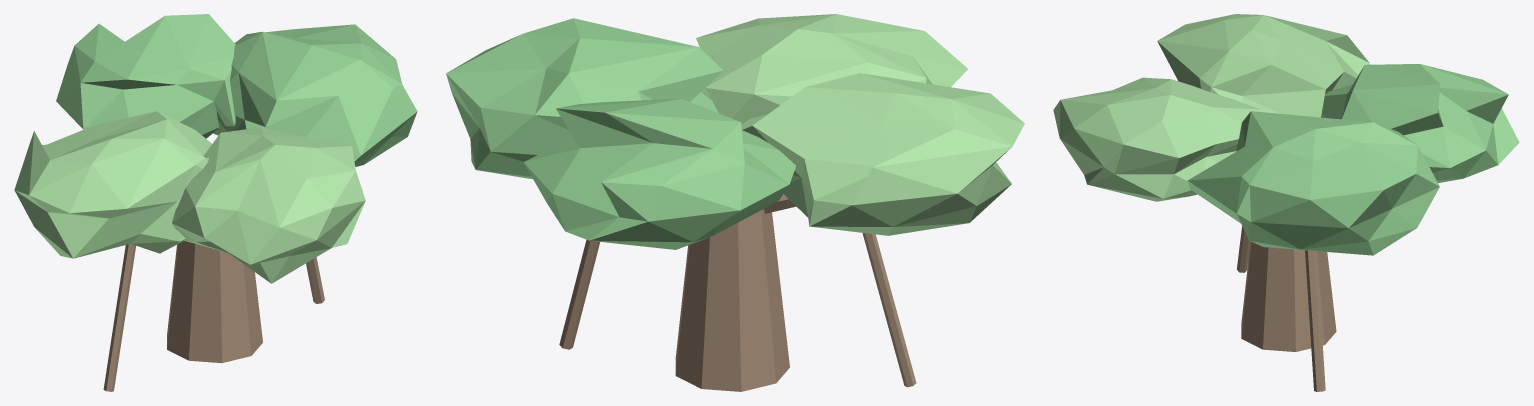
File: ASTX_VEG_CANOPY_C.glb
3 views of the same model, side by side, from view 1: azimuth 30°, elevation 25°; view 2: azimuth 150°, elevation 25°; view 3: azimuth 270°, elevation 25° (orthographic). The views are drawn at different scales.
Parts seen in each view (by area): view 1: ASTX_VEG_CANOPY_C_padS, ASTX_VEG_CANOPY_C_padW, ASTX_VEG_CANOPY_C_padE, ASTX_VEG_CANOPY_C_padN, ASTX_VEG_CANOPY_C_trunk, ASTX_VEG_CANOPY_C_root1, ASTX_VEG_CANOPY_C_root0; view 2: ASTX_VEG_CANOPY_C_padW, ASTX_VEG_CANOPY_C_padN, ASTX_VEG_CANOPY_C_padE, ASTX_VEG_CANOPY_C_padS, ASTX_VEG_CANOPY_C_trunk, ASTX_VEG_CANOPY_C_root1, ASTX_VEG_CANOPY_C_root0; view 3: ASTX_VEG_CANOPY_C_padE, ASTX_VEG_CANOPY_C_padS, ASTX_VEG_CANOPY_C_padW, ASTX_VEG_CANOPY_C_padN, ASTX_VEG_CANOPY_C_trunk, ASTX_VEG_CANOPY_C_root0, ASTX_VEG_CANOPY_C_root1.
Part boxes in pixels (x1=…): ASTX_VEG_CANOPY_C_padS: x1=172, y1=127, x2=365, y2=283; ASTX_VEG_CANOPY_C_padW: x1=14, y1=111, x2=211, y2=258; ASTX_VEG_CANOPY_C_padE: x1=213, y1=24, x2=417, y2=166; ASTX_VEG_CANOPY_C_padN: x1=56, y1=14, x2=236, y2=138; ASTX_VEG_CANOPY_C_trunk: x1=167, y1=241, x2=262, y2=363; ASTX_VEG_CANOPY_C_root1: x1=103, y1=244, x2=135, y2=391; ASTX_VEG_CANOPY_C_root0: x1=306, y1=257, x2=324, y2=303; ASTX_VEG_CANOPY_C_padW: x1=741, y1=73, x2=1024, y2=235; ASTX_VEG_CANOPY_C_padN: x1=523, y1=99, x2=795, y2=249; ASTX_VEG_CANOPY_C_padE: x1=446, y1=18, x2=723, y2=179; ASTX_VEG_CANOPY_C_padS: x1=696, y1=14, x2=967, y2=124; ASTX_VEG_CANOPY_C_trunk: x1=675, y1=209, x2=789, y2=391; ASTX_VEG_CANOPY_C_root1: x1=862, y1=233, x2=916, y2=387; ASTX_VEG_CANOPY_C_root0: x1=559, y1=239, x2=600, y2=349; ASTX_VEG_CANOPY_C_padE: x1=1187, y1=111, x2=1439, y2=255; ASTX_VEG_CANOPY_C_padS: x1=1053, y1=77, x2=1261, y2=201; ASTX_VEG_CANOPY_C_padW: x1=1157, y1=14, x2=1369, y2=117; ASTX_VEG_CANOPY_C_padN: x1=1321, y1=64, x2=1519, y2=182; ASTX_VEG_CANOPY_C_trunk: x1=1241, y1=241, x2=1336, y2=351; ASTX_VEG_CANOPY_C_root0: x1=1305, y1=250, x2=1325, y2=391; ASTX_VEG_CANOPY_C_root1: x1=1236, y1=226, x2=1250, y2=272.
Size of the model in its own units: 7.29 by 4.45 by 7.18.
